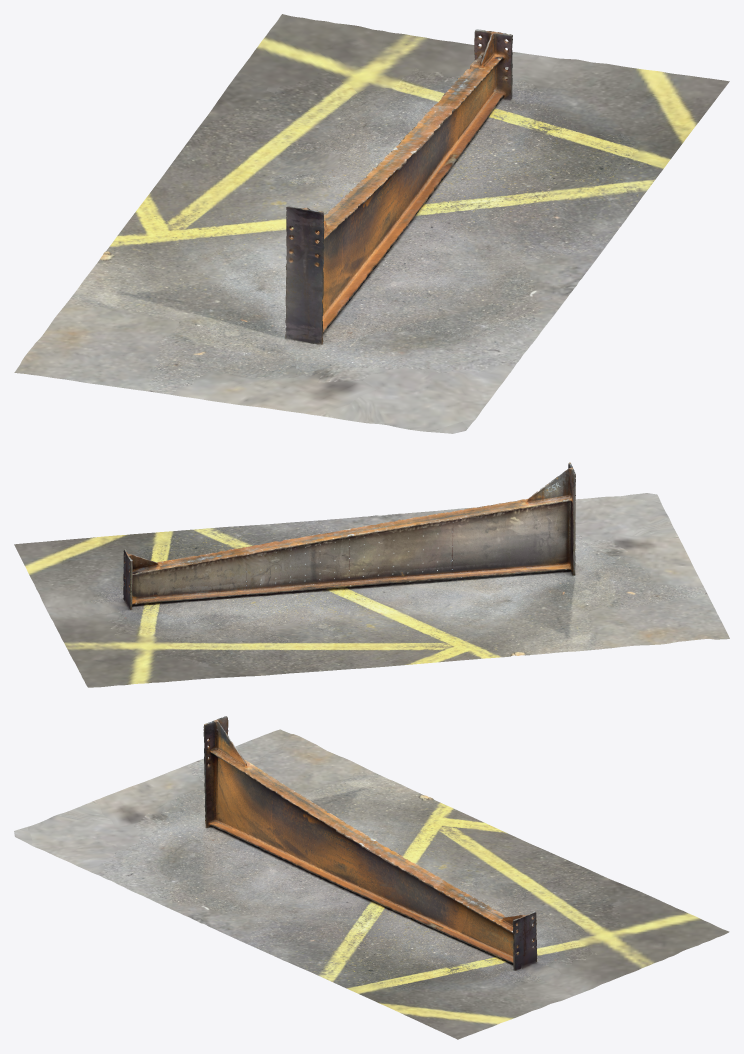
3 renders of one model, top to bottom at view 1: azimuth 30°, elevation 25°; view 2: azimuth 150°, elevation 25°; view 3: azimuth 270°, elevation 25°, orthographic. The views are drawn at different scales.
Bounding box in the file's own units: 4.34 × 0.6826 × 4.18.
Materials: 1 (1 with a texture image).
